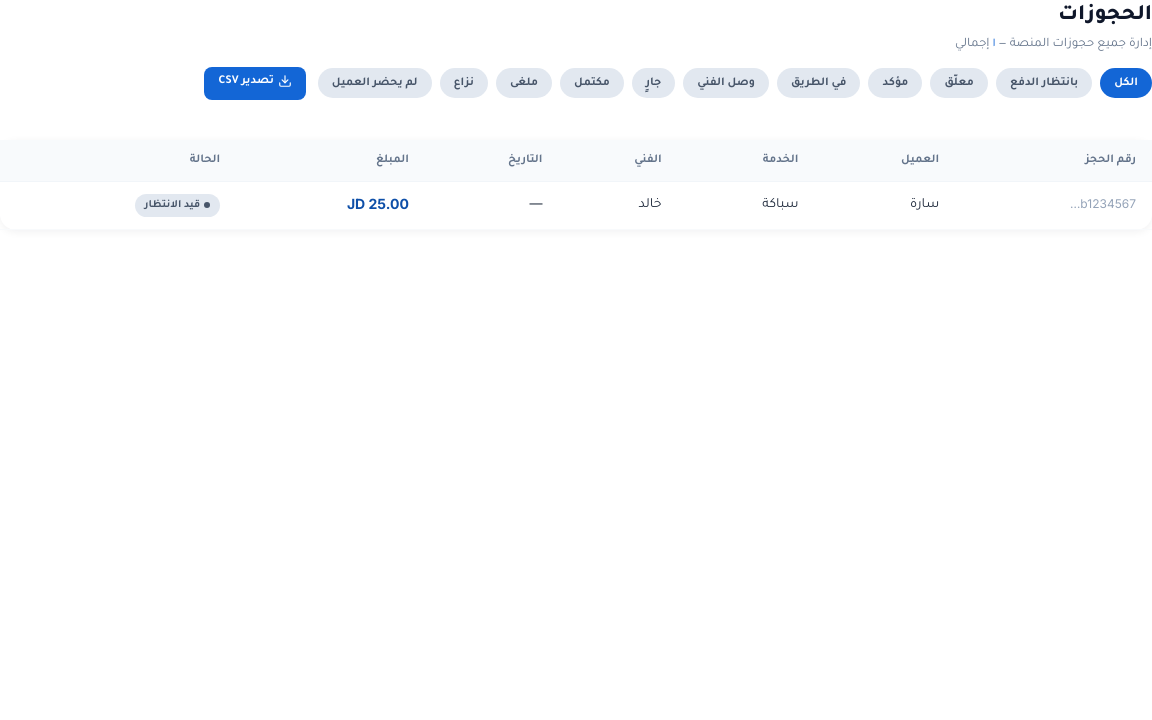
Test: Bookings page (detail drawer wired to GET /admin/bookings/:id) › lazily fetches and renders the real detail endpoint on row click
Expected: the text "سارة" is shown, [814, 181, 955, 230]
Click the row with test id "booking-row-b1234567-aaaa" at (576, 205), box [0, 181, 1151, 230]
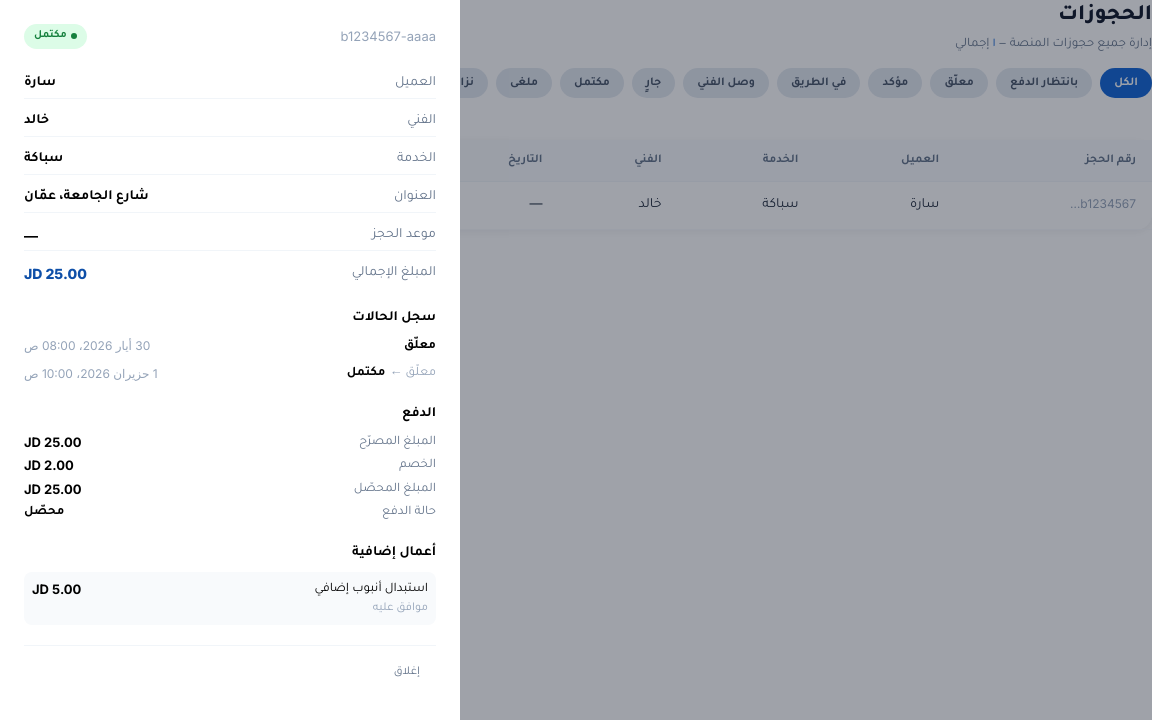
Now the text "سجل الحالات" is shown, box [352, 310, 436, 324]
Now the text "العنوان" is shown, box [394, 186, 436, 208]
Now the text "شارع الجامعة، عمّان" is shown, box [24, 186, 149, 208]
